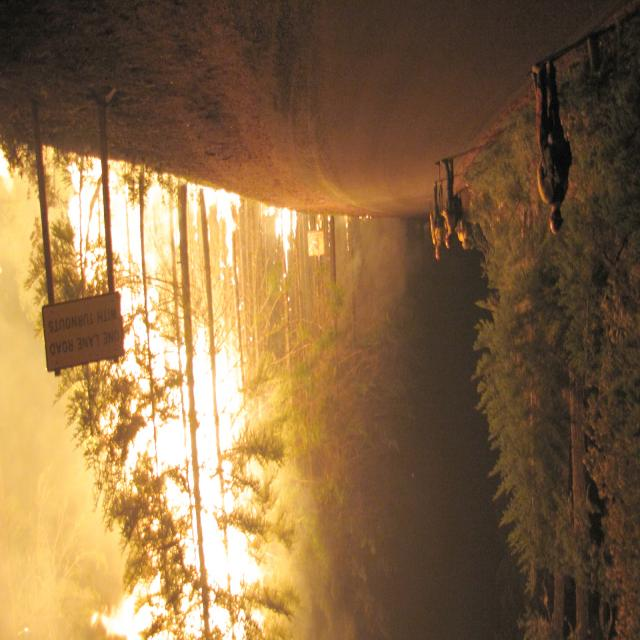dog: (502, 273, 508, 402)
